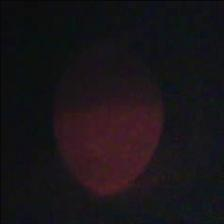fertile: (54, 48, 164, 196)
